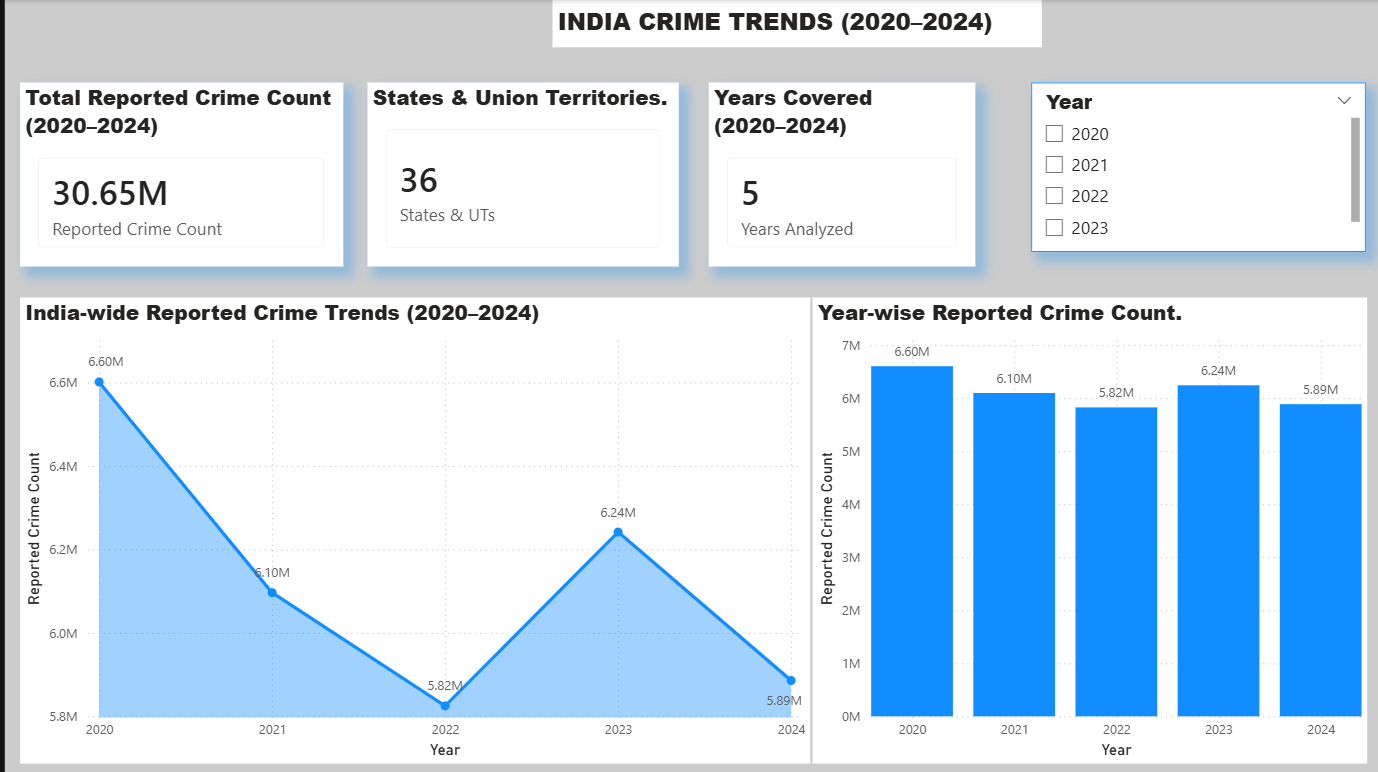

This screenshot's page, from the dashboard's own definition file:
{"tool":"powerbi","page":{"name":"India Crime Trends (2020–2024)","canvas":[1280,720],"ordinal":3},"visuals":[{"type":"textbox","box":[509.1,0,455.6,43.9],"z":0},{"type":"cardVisual","title":"Total Reported Crime Count (2020–2024)","fields":{"Data":["Sum(india_crime_analysis crime_data.Reported_Crime_Count)"]},"box":[13.7,76.8,300.5,171.5],"z":1000},{"type":"lineChart","title":"India-wide Reported Crime Trends (2020–2024)","fields":{"Category":["india_crime_analysis crime_data.Year"],"Y":["Sum(india_crime_analysis crime_data.Reported_Crime_Count)"]},"box":[13.7,277.2,735.5,433.6],"z":2000},{"type":"slicer","fields":{"Values":["india_crime_analysis crime_data.Year"]},"box":[955.1,76.8,311.5,157.8],"z":3000},{"type":"cardVisual","title":"States & Union Territories.","fields":{"Data":["Count(india_crime_analysis crime_data.State_UT)"]},"box":[337.6,76.8,289.5,171.5],"z":4000},{"type":"cardVisual","title":"Years Covered (2020–2024)","fields":{"Data":["Count(india_crime_analysis crime_data.Year)"]},"box":[654.5,76.8,248.4,171.5],"z":5000},{"type":"clusteredColumnChart","title":"Year-wise Reported Crime Count.","fields":{"Y":["Sum(india_crime_analysis crime_data.Reported_Crime_Count)"],"Category":["india_crime_analysis crime_data.Year"]},"box":[750.6,277.2,516,433.6],"z":6000}]}

Visuals, with their boxes in screenshot pixels (x1, y1, x2, y2), scaled from the page's 1280x720 canvas onto the 1378x772 screenshot:
textbox: {"x1": 548, "y1": 0, "x2": 1039, "y2": 47}
"Total Reported Crime Count (2020–2024)" cardVisual: {"x1": 15, "y1": 82, "x2": 338, "y2": 266}
"India-wide Reported Crime Trends (2020–2024)" lineChart: {"x1": 15, "y1": 297, "x2": 807, "y2": 762}
slicer - india_crime_analysis crime_data.Year: {"x1": 1028, "y1": 82, "x2": 1364, "y2": 252}
"States & Union Territories." cardVisual: {"x1": 363, "y1": 82, "x2": 675, "y2": 266}
"Years Covered (2020–2024)" cardVisual: {"x1": 705, "y1": 82, "x2": 972, "y2": 266}
"Year-wise Reported Crime Count." clusteredColumnChart: {"x1": 808, "y1": 297, "x2": 1364, "y2": 762}
